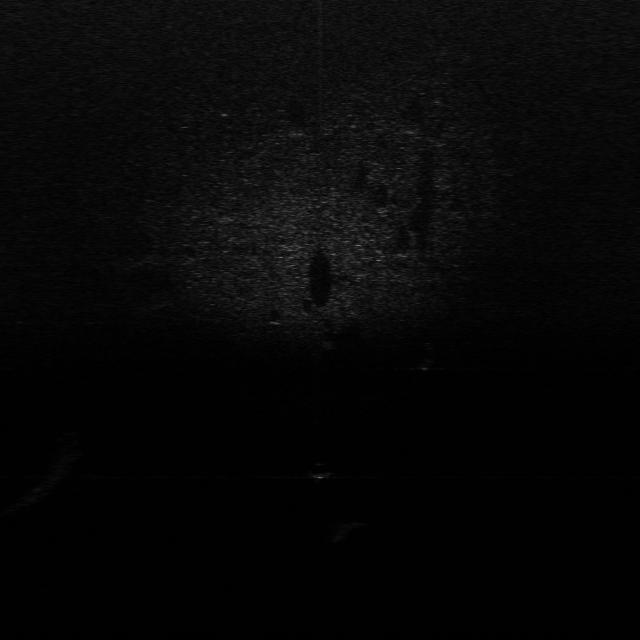ball: (310, 459, 330, 480)
square cage: (322, 520, 381, 543)
tyre: (416, 338, 440, 373)
